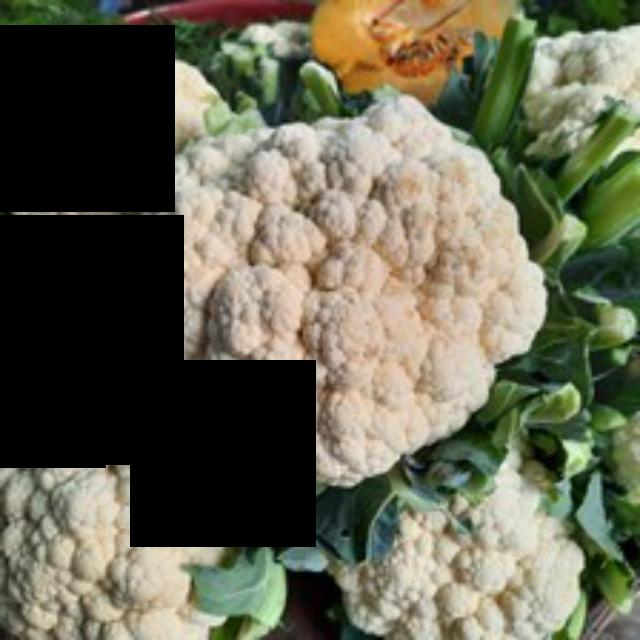cauliflower: (123, 87, 564, 524)
